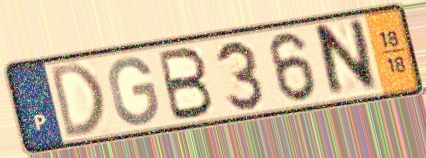3: (212, 36, 268, 114)
6: (267, 29, 319, 105)
B: (155, 45, 216, 124)
D: (47, 59, 108, 143)
G: (107, 54, 162, 128)
N: (315, 15, 381, 103)
